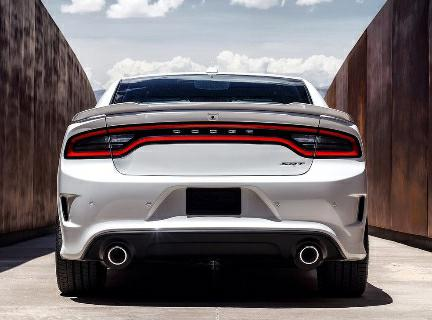道奇-ChargerSRT: (47, 67, 384, 308)
